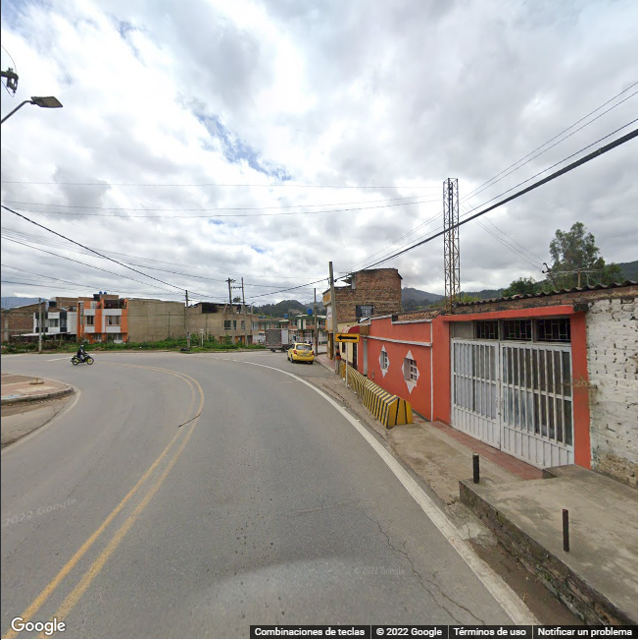D00: (417, 570, 491, 628), (362, 509, 422, 571), (406, 568, 464, 627)
D10: (272, 503, 360, 514)
